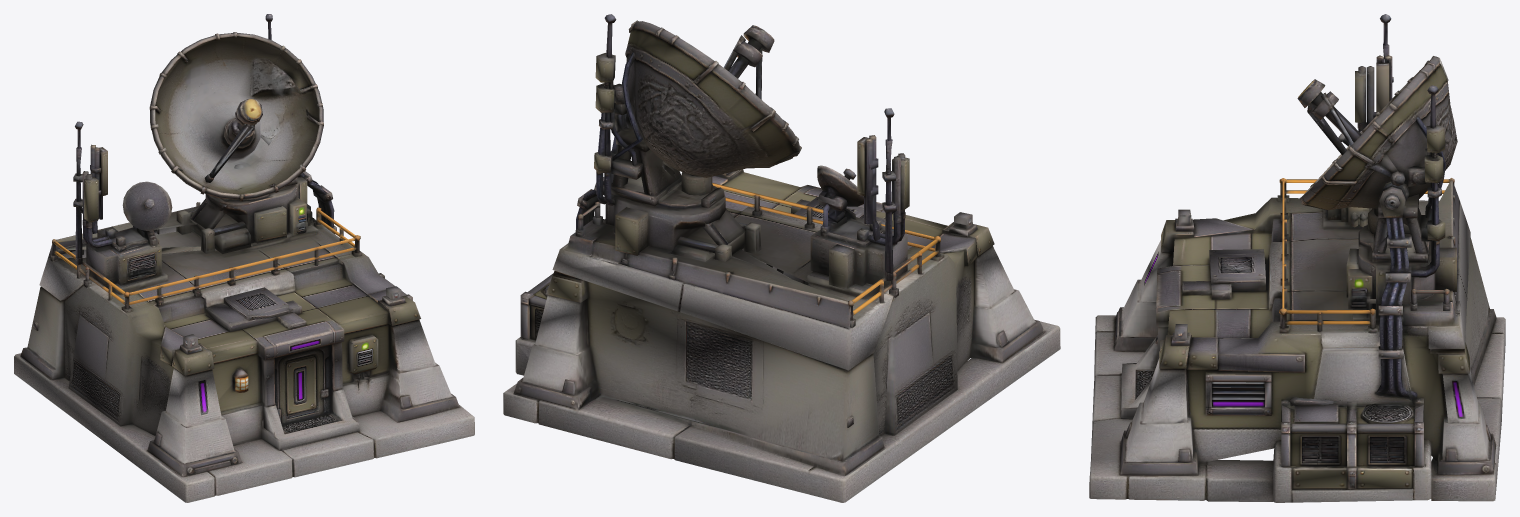
File: comms_l05.glb
3 views of the same model, side by side, from view 1: azimuth 30°, elevation 25°; view 2: azimuth 150°, elevation 25°; view 3: azimuth 270°, elevation 25° (orthographic). The views are drawn at different scales.
Parts seen in each view (by area): view 1: tripo_node_6d2c4703-a255-4791-96b5-097dc33a746b; view 2: tripo_node_6d2c4703-a255-4791-96b5-097dc33a746b; view 3: tripo_node_6d2c4703-a255-4791-96b5-097dc33a746b.
Part boxes in pixels (<box>): tripo_node_6d2c4703-a255-4791-96b5-097dc33a746b: <box>14,14,474,502</box>; tripo_node_6d2c4703-a255-4791-96b5-097dc33a746b: <box>503,14,1060,502</box>; tripo_node_6d2c4703-a255-4791-96b5-097dc33a746b: <box>1089,14,1505,502</box>.
Bounding box in the file's own units: 0.9927 × 0.9995 × 0.9927.
1 material, 1 textured.
